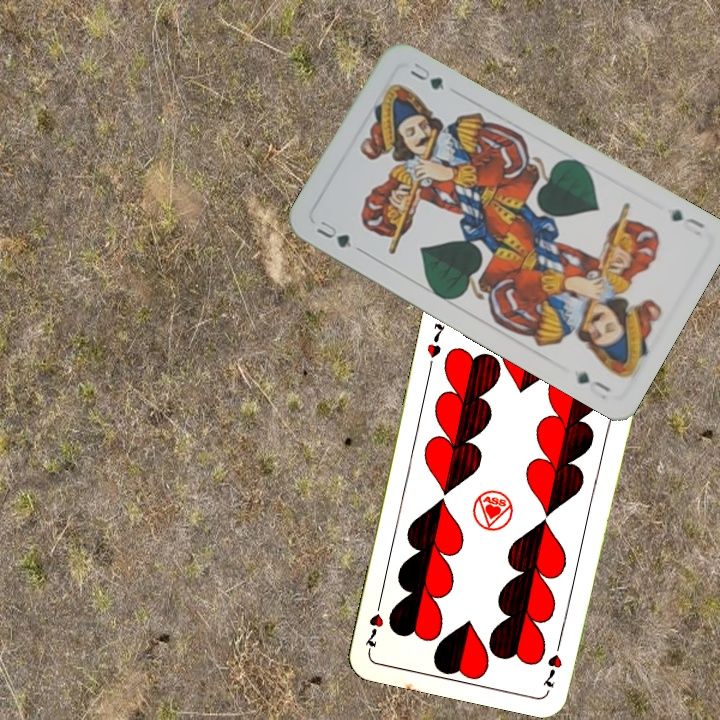GU: (312, 216, 355, 251), (667, 204, 708, 233)
H7: (539, 634, 565, 690), (422, 319, 448, 361)
